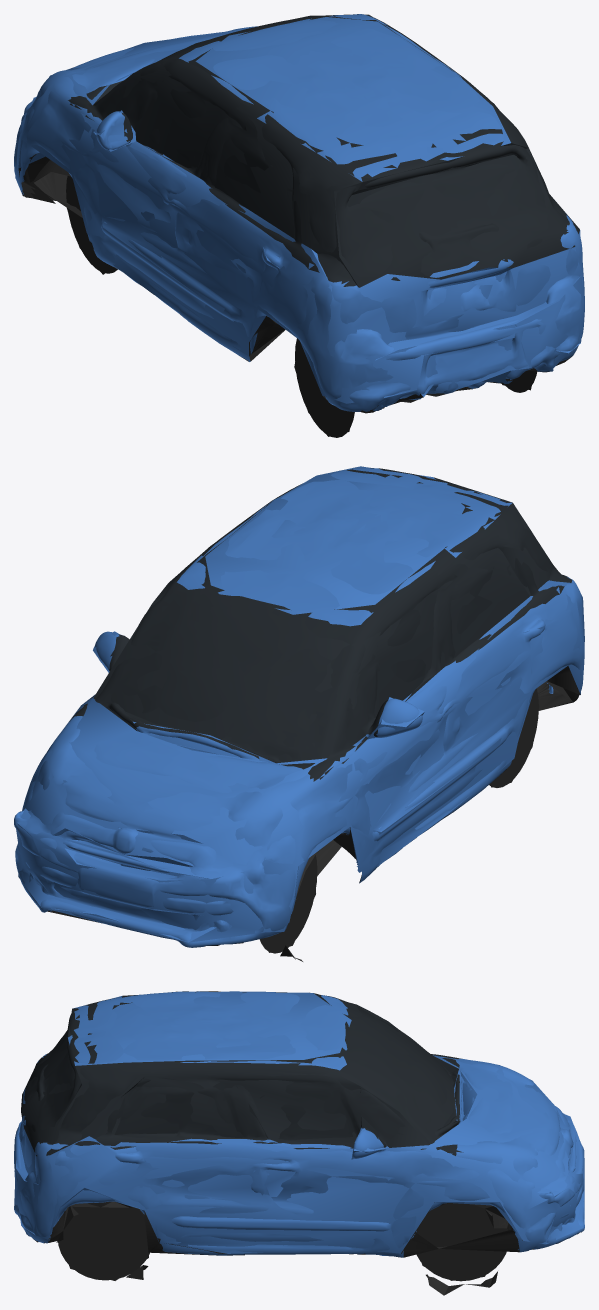
File: fiat-500-l.glb
3 renders of one model, top to bottom at view 1: azimuth 30°, elevation 25°; view 2: azimuth 150°, elevation 25°; view 3: azimuth 270°, elevation 25°, orthographic. The views are drawn at different scales.
Parts seen in each view (by area): view 1: body, far; view 2: body, far; view 3: body, far.
Boxes of the visible parts, <box> form: body: <box>14,14,584,437</box>; far: <box>15,14,583,436</box>; body: <box>14,468,584,961</box>; far: <box>16,466,584,952</box>; body: <box>14,991,584,1295</box>; far: <box>14,991,584,1280</box>.
Size of the model in its own units: 1.86 by 1.56 by 3.59.
